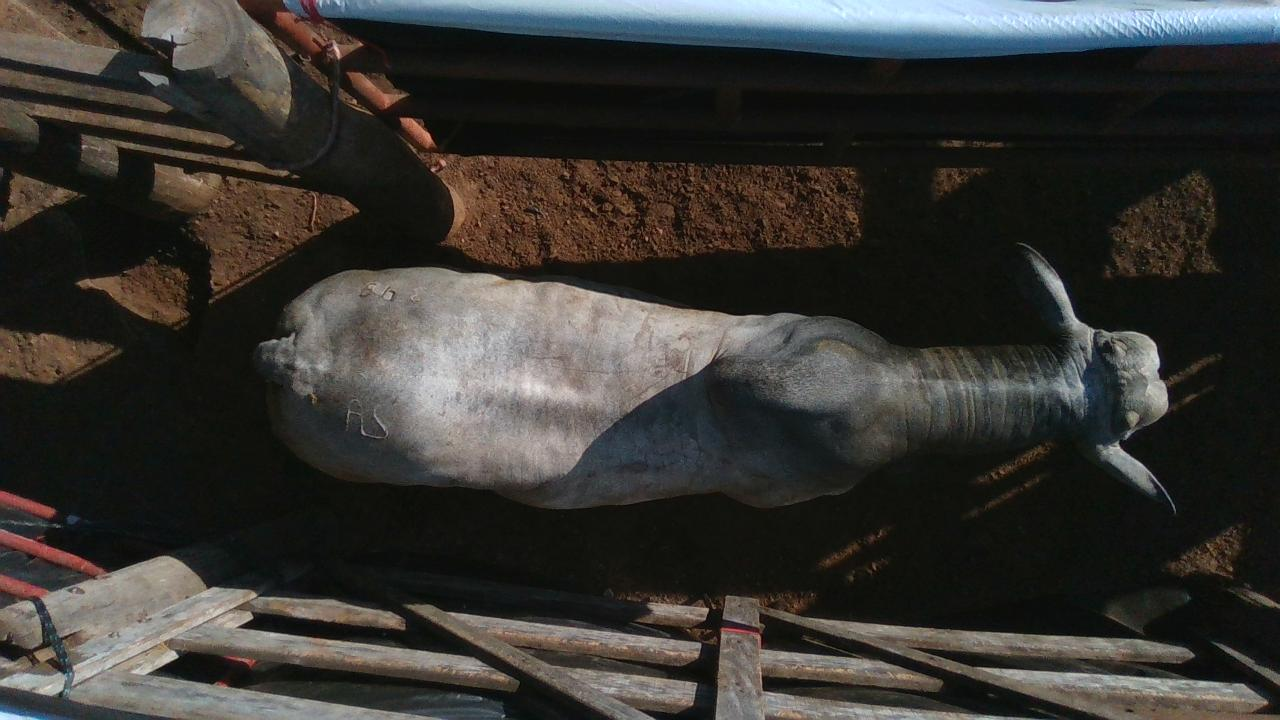cattle: (252, 240, 1179, 518)
